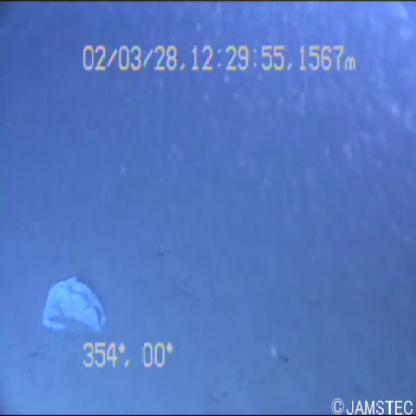Rác: (31, 278, 122, 344)
